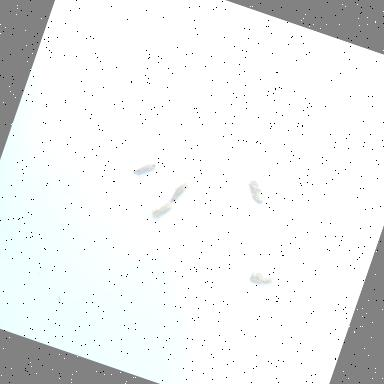pbw: (240, 173, 272, 206), (166, 174, 194, 207), (144, 194, 174, 223), (133, 154, 159, 180), (248, 270, 276, 290)
